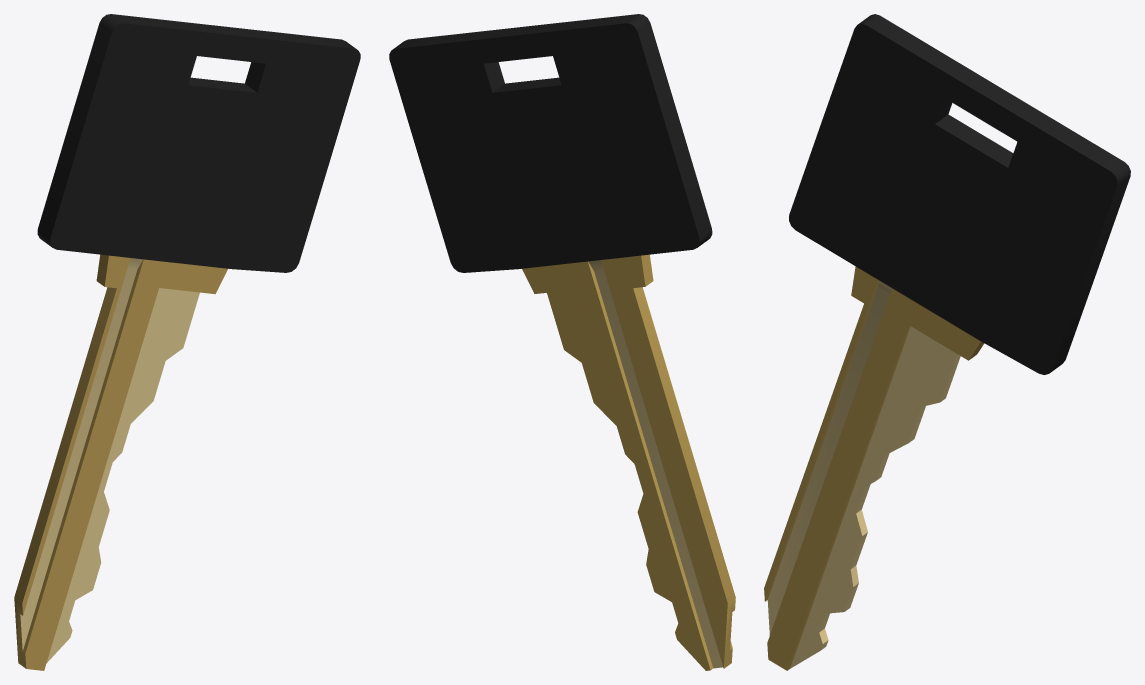
File: Key_13.fbx
3 renders of one model, left to right at view 1: azimuth 30°, elevation 25°; view 2: azimuth 150°, elevation 25°; view 3: azimuth 330°, elevation 25°, orthographic. The views are drawn at different scales.
Visible parts, largest first — view 1: Key13.001; view 2: Key13.001; view 3: Key13.001.
Part boxes in pixels (left/top/right/bottom): Key13.001: left=14, top=14, right=360, bottom=670; Key13.001: left=389, top=14, right=735, bottom=670; Key13.001: left=764, top=14, right=1130, bottom=670.
Size of the model in its own units: 0.5633 by 1.01 by 0.0367.
